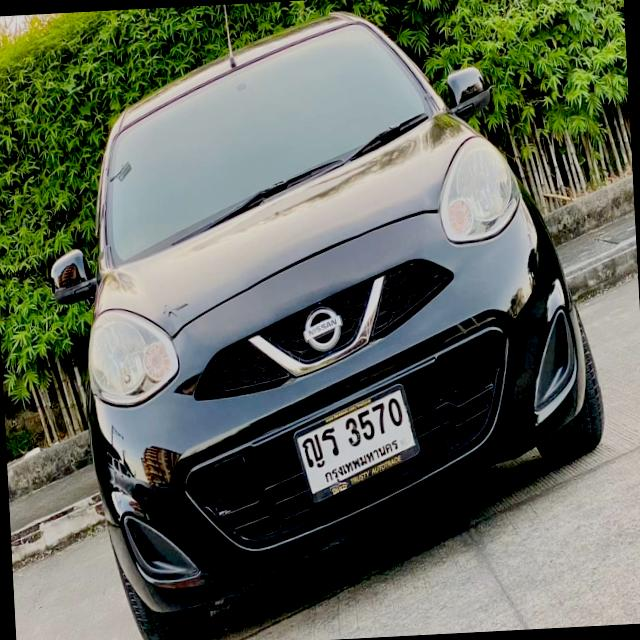license_plate: (290, 377, 424, 509)
